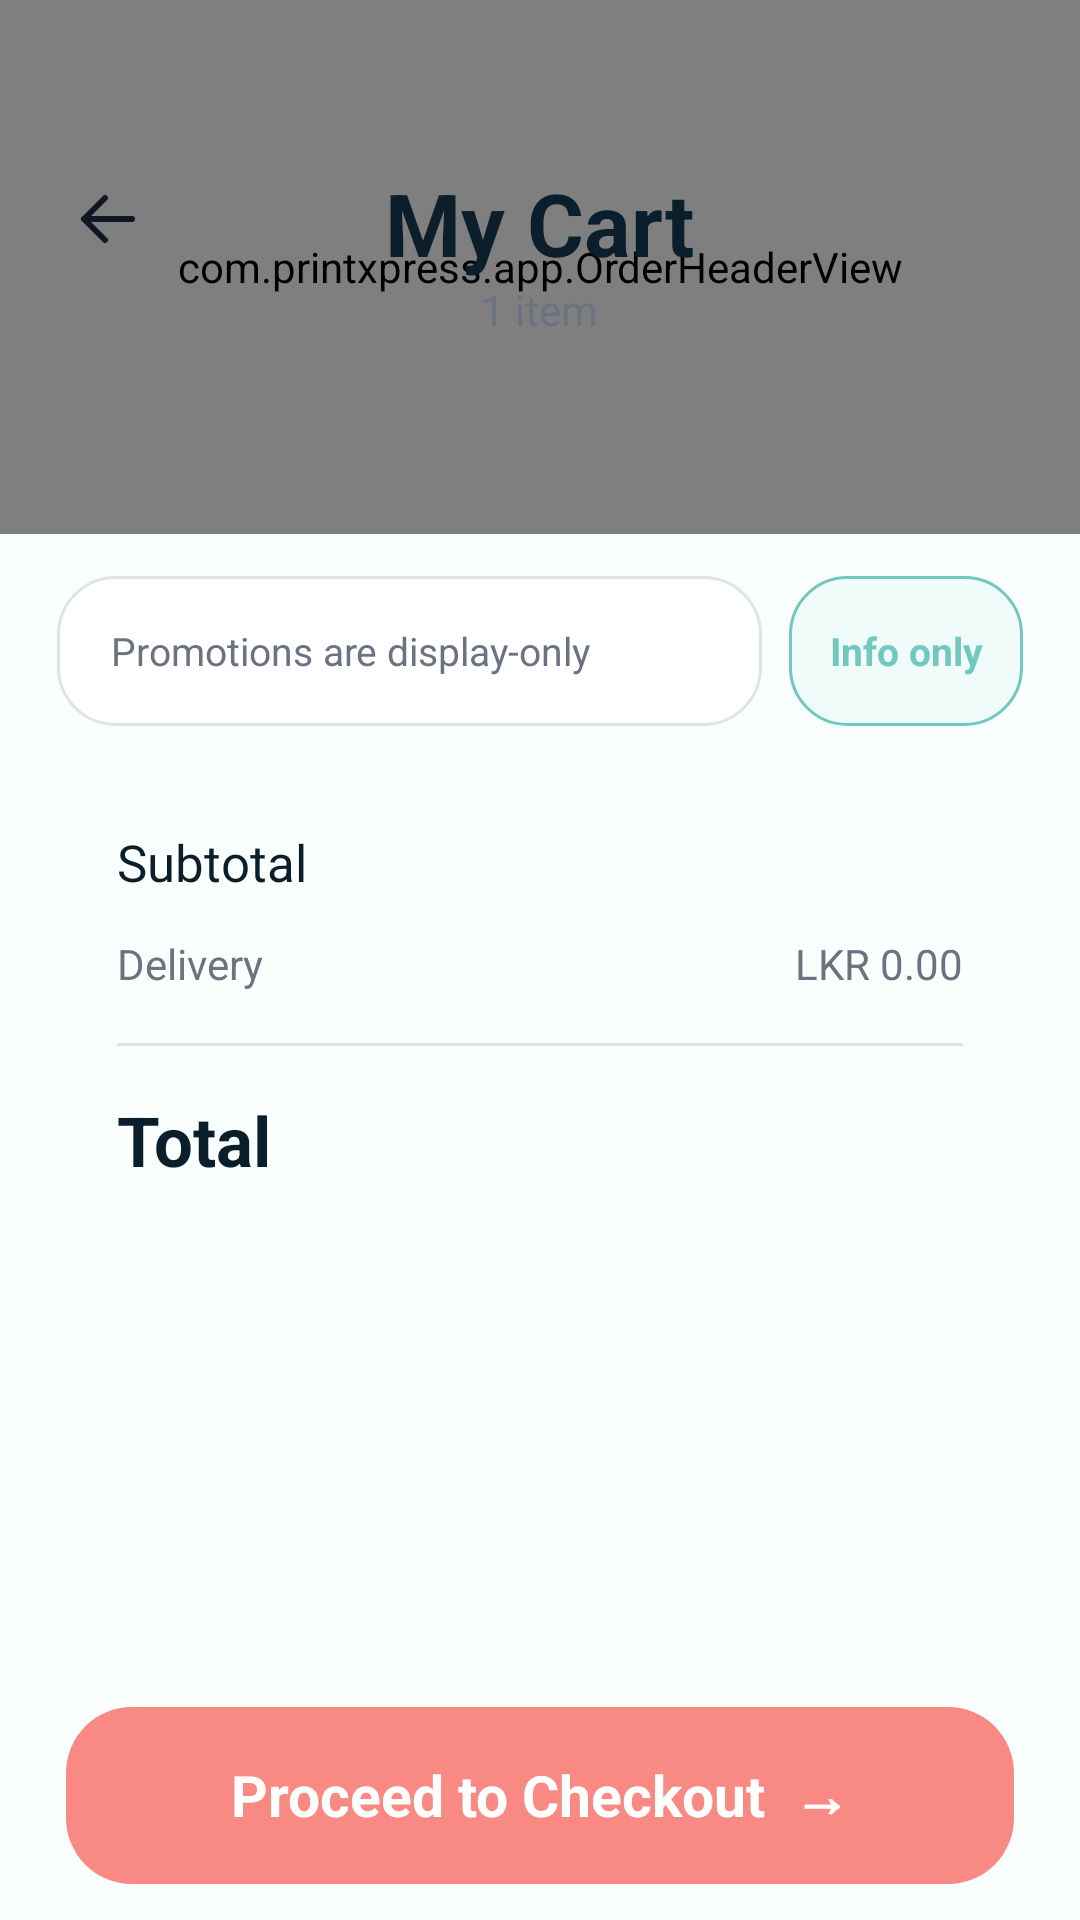

Icon click points for this 1080*1920 phone screenshot, format (x=x, y=y):
Back: (x=108, y=219)
